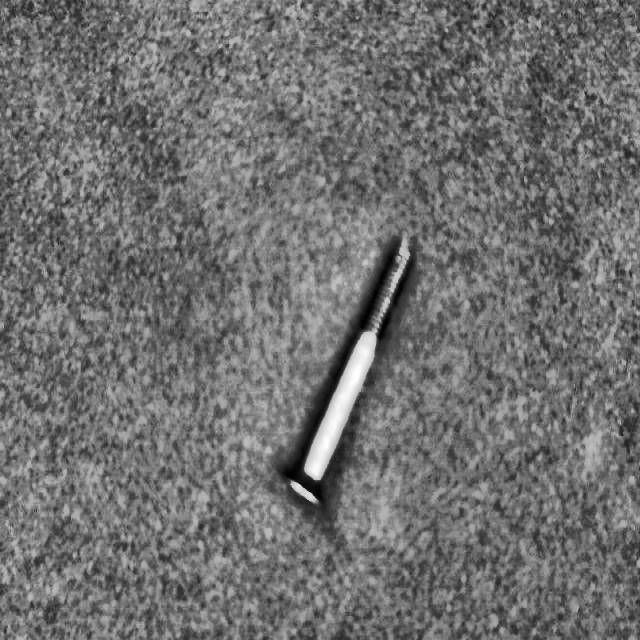Flat head socket screw: (280, 231, 416, 509)
